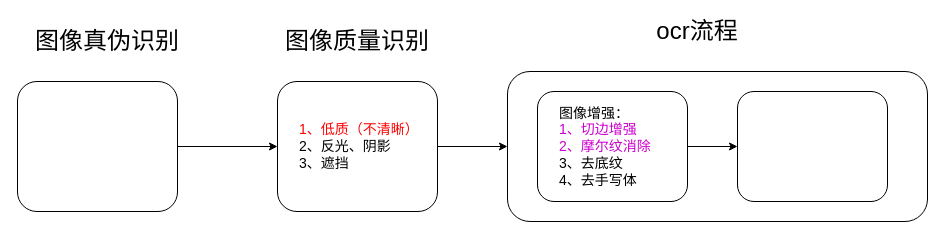
The diagram is 945 pixels wide and 239 high, and some of its shapes have lost their labels. Here are the shapes that lost their labels. From the top down, the centre of each, then its label:
[97,146]: 1、PS 2、拍屏、截屏 3、无公章
[812,146]: 内容检测、识别
